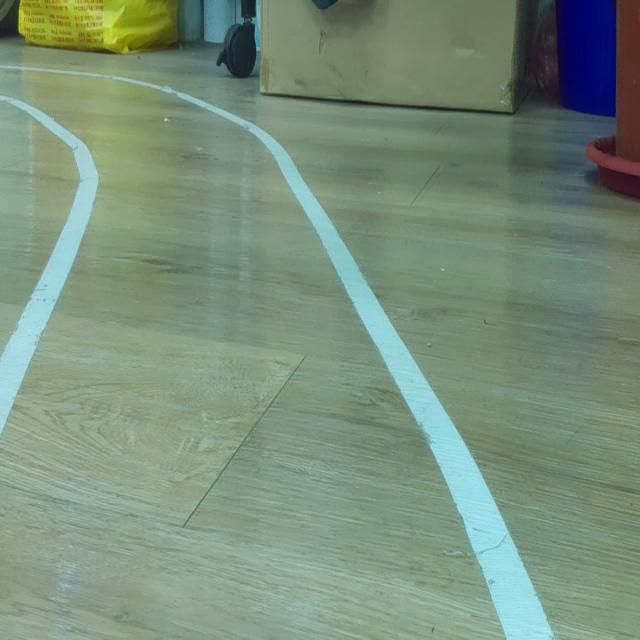road: (0, 66, 506, 639)
